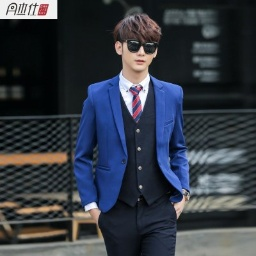face: (112, 12, 163, 74)
